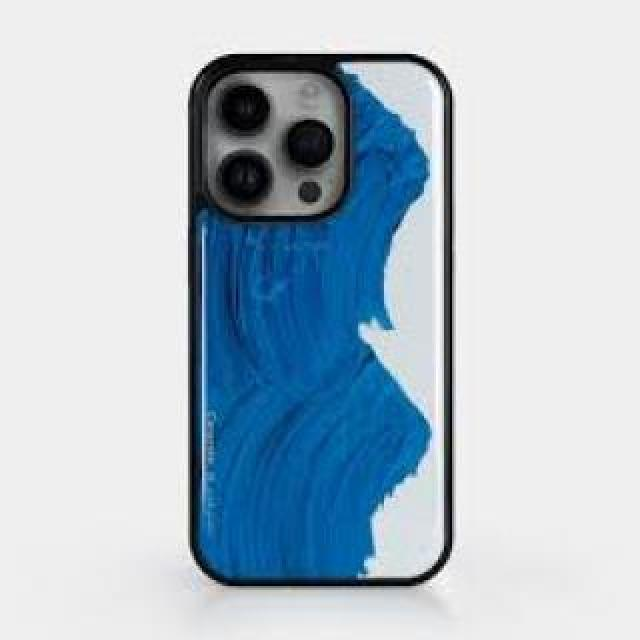smart phone: (168, 20, 505, 615)
